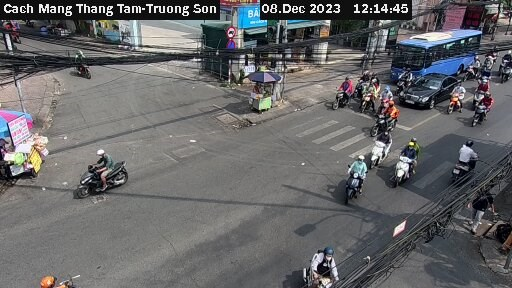bus: (392, 28, 485, 76)
car: (401, 72, 462, 114)
motorbike: (74, 150, 135, 198), (295, 250, 351, 288), (392, 143, 434, 193), (336, 160, 383, 203), (444, 142, 485, 189), (366, 130, 403, 170), (465, 98, 498, 130), (367, 104, 402, 131), (466, 74, 495, 105), (327, 82, 355, 111), (444, 86, 465, 111)
